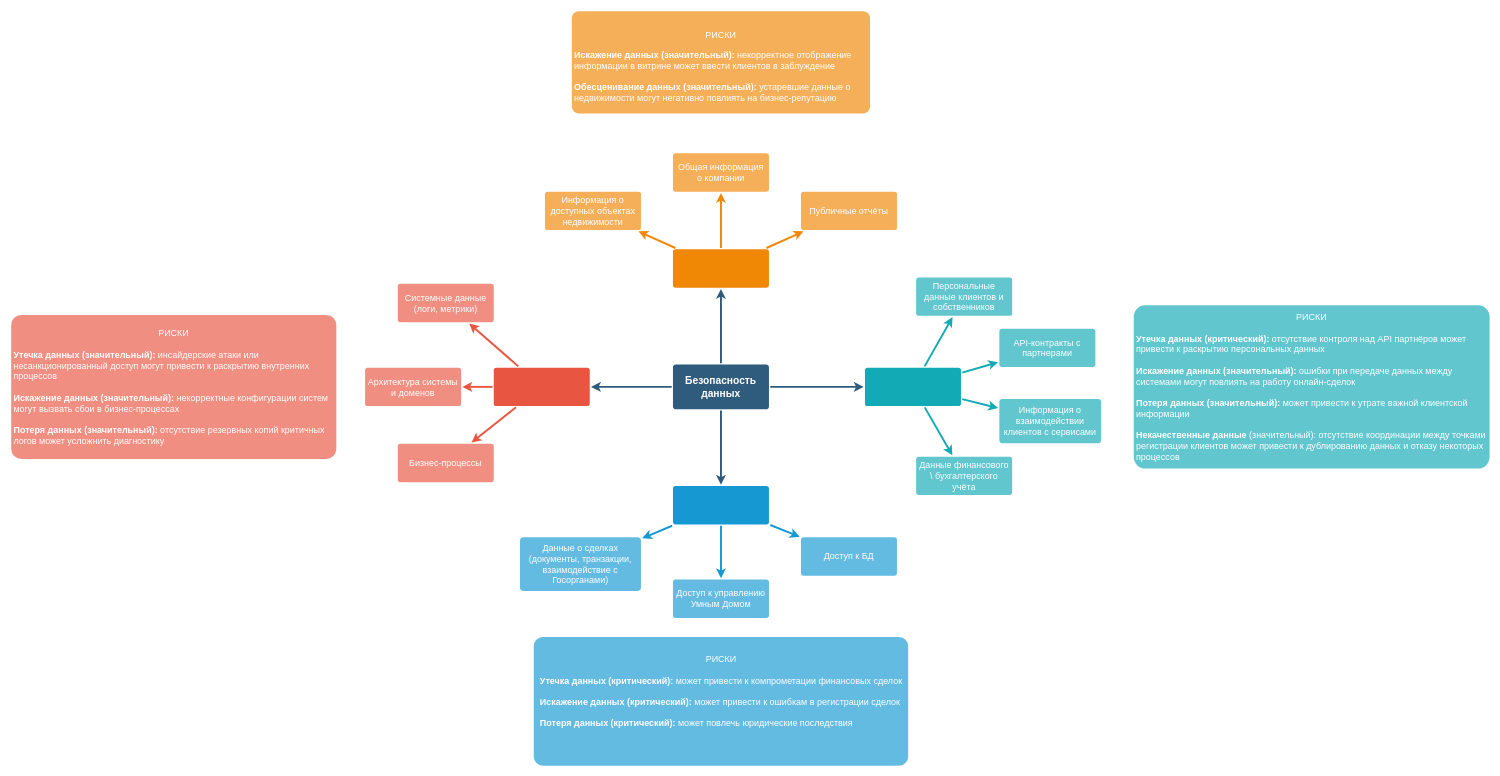
Some shapes in this 1500 by 776 pixel diagram are drawn without their labels. Each missing label, with the box of its shape:
Внутренние: (493, 367, 589, 406)
Конфиденциальные: (865, 367, 961, 406)
Публичные: (673, 249, 769, 287)
Секретные: (673, 486, 769, 524)
